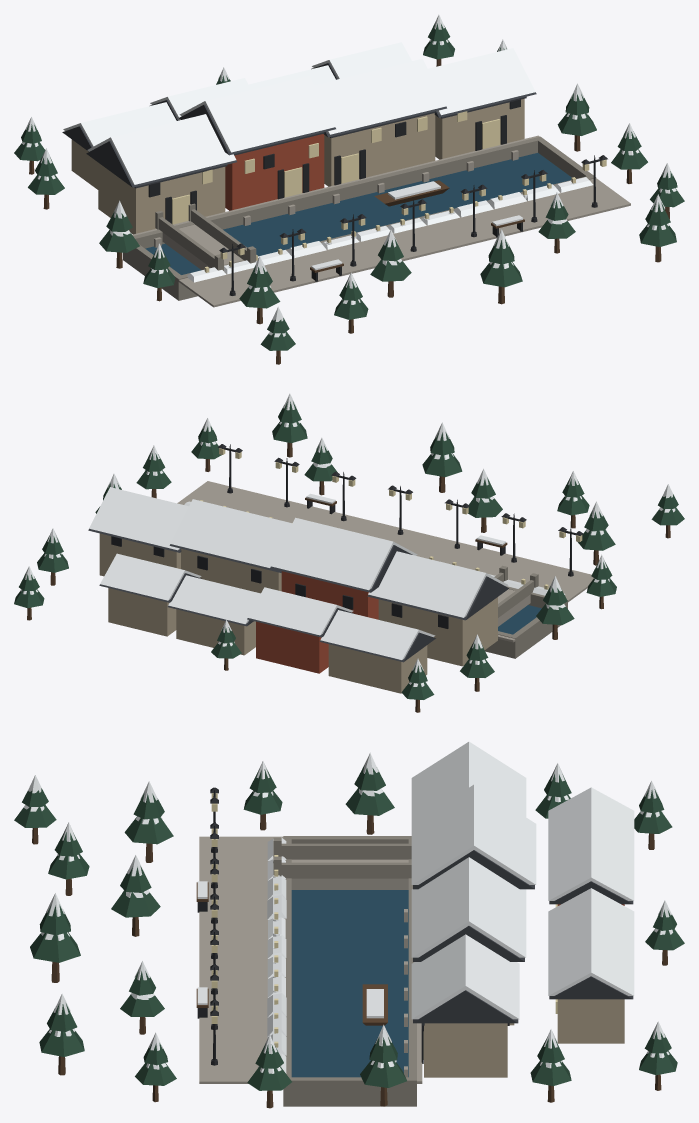
File: otaru-canal.glb
3 views of the same model, one above another, from view 1: azimuth 30°, elevation 25°; view 2: azimuth 150°, elevation 25°; view 3: azimuth 270°, elevation 25° (orthographic). The views are drawn at different scales.
Parts seen in each view (by area): view 1: otaru_snow, otaru_fir, otaru_pave, otaru_ware, otaru_water, otaru_stonewall, otaru_brick, otaru_iron, otaru_roof, otaru_wood, glow_doors, glow_windows (+1 smaller); view 2: otaru_snow, otaru_ware, otaru_fir, otaru_pave, otaru_brick, otaru_roof, otaru_iron, otaru_stonewall, otaru_wood, glow_lamps, otaru_water; view 3: otaru_snow, otaru_fir, otaru_water, otaru_pave, otaru_stonewall, otaru_ware, otaru_roof, otaru_wood, otaru_iron, glow_lamps.
Part boxes in pixels (bbox=[...]): otaru_snow: bbox=[22, 15, 676, 337]; otaru_fir: bbox=[14, 22, 684, 350]; otaru_pave: bbox=[132, 135, 630, 307]; otaru_ware: bbox=[71, 98, 524, 234]; otaru_water: bbox=[145, 153, 571, 274]; otaru_stonewall: bbox=[123, 136, 596, 300]; otaru_brick: bbox=[225, 134, 324, 210]; otaru_iron: bbox=[148, 98, 607, 295]; otaru_roof: bbox=[62, 63, 536, 188]; otaru_wood: bbox=[29, 59, 669, 364]; glow_doors: bbox=[172, 119, 500, 224]; glow_windows: bbox=[202, 111, 467, 184]; otaru_snow: bbox=[20, 393, 676, 686]; otaru_ware: bbox=[99, 533, 497, 693]; otaru_fir: bbox=[14, 401, 684, 699]; otaru_pave: bbox=[177, 481, 593, 642]; otaru_brick: bbox=[256, 571, 378, 673]; otaru_roof: bbox=[88, 528, 508, 662]; otaru_iron: bbox=[111, 444, 583, 628]; otaru_stonewall: bbox=[485, 565, 567, 658]; otaru_wood: bbox=[27, 442, 670, 712]; glow_lamps: bbox=[219, 448, 582, 542]; otaru_water: bbox=[498, 605, 541, 634]; otaru_snow: bbox=[24, 741, 675, 1073]; otaru_fir: bbox=[14, 765, 684, 1090]; otaru_water: bbox=[291, 890, 408, 1077]; otaru_pave: bbox=[199, 836, 422, 1083]; otaru_stonewall: bbox=[273, 836, 416, 1106]; otaru_ware: bbox=[424, 999, 624, 1077]; otaru_roof: bbox=[413, 850, 633, 1025]; otaru_wood: bbox=[32, 814, 667, 1108]; otaru_iron: bbox=[197, 787, 509, 1065]; glow_lamps: bbox=[211, 793, 217, 1023].
Size of the model in its own units: 20.83 by 4.6 by 20.03.
